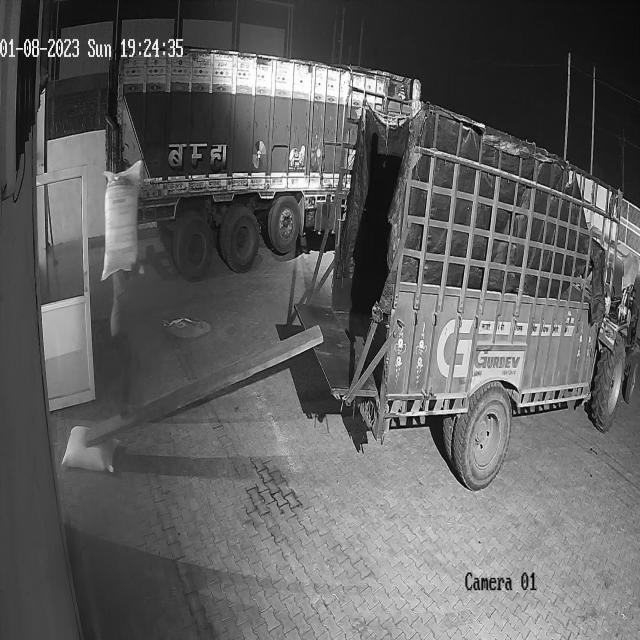sack: (101, 160, 141, 279), (62, 424, 118, 472)
